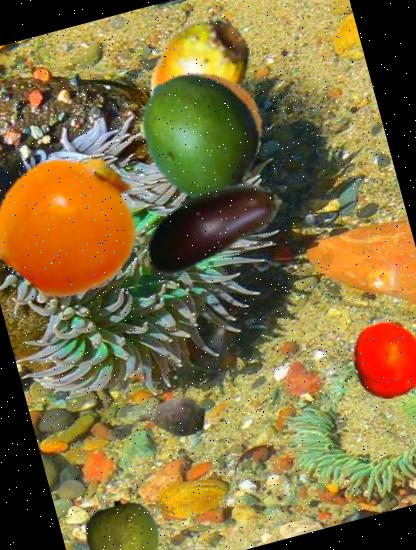Beetroot: (130, 373, 215, 458)
Cactus: (100, 0, 281, 175)
Clementine: (340, 314, 416, 407)
Eggplant: (122, 136, 303, 316)
Kiwi: (130, 56, 276, 202)
Limes: (75, 492, 172, 550)
Mango: (118, 53, 286, 221)
Physalis: (0, 134, 160, 312)
